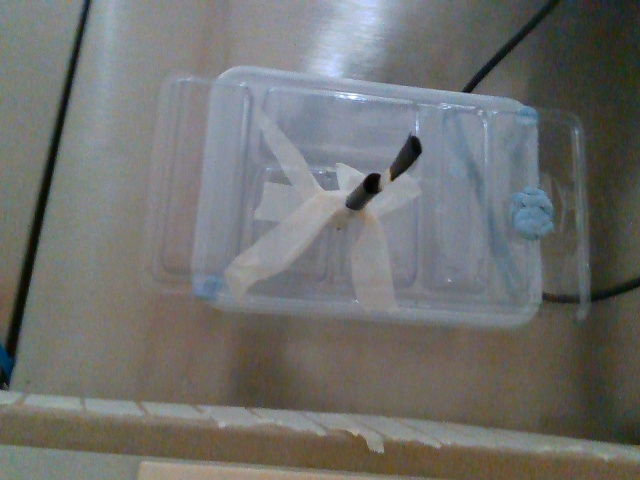test_strip: (378, 132, 423, 190)
